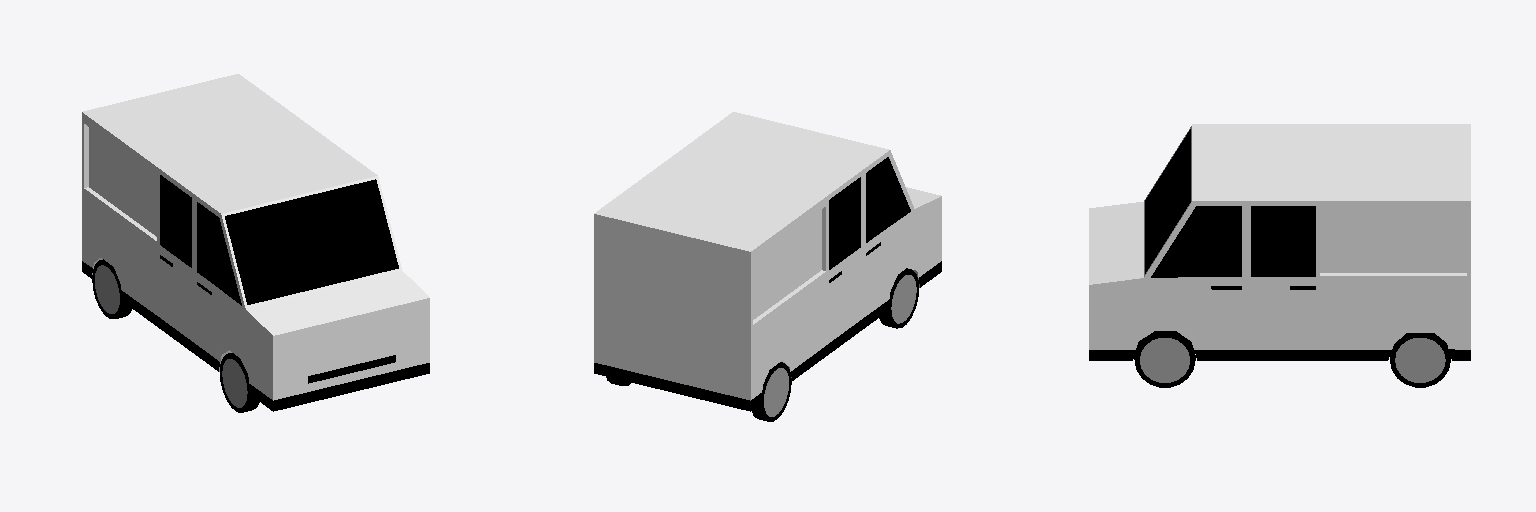
File: van.obj
3 views of the same model, side by side, from view 1: azimuth 30°, elevation 25°; view 2: azimuth 150°, elevation 25°; view 3: azimuth 270°, elevation 25° (orthographic).
Visible parts, largest first — view 1: Cube, Cylinder.1, Cylinder.3; view 2: Cube, Cylinder.1, Cylinder.3; view 3: Cube, Cylinder, Cylinder.2.
Part boxes in pixels (x1,y1,x2,y2): Cube: (82,74,429,411); Cylinder.1: (220,353,259,412); Cylinder.3: (92,259,131,318); Cube: (594,112,941,411); Cylinder.1: (879,268,918,328); Cylinder.3: (752,362,791,421); Cube: (1089,124,1470,360); Cylinder: (1134,331,1195,387); Cylinder.2: (1390,333,1450,387).
Size of the model in its own units: 569 by 645 by 1200.